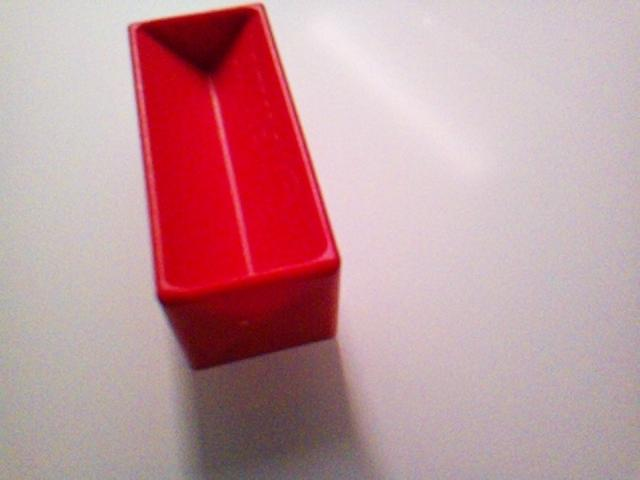red: (126, 2, 343, 371)
